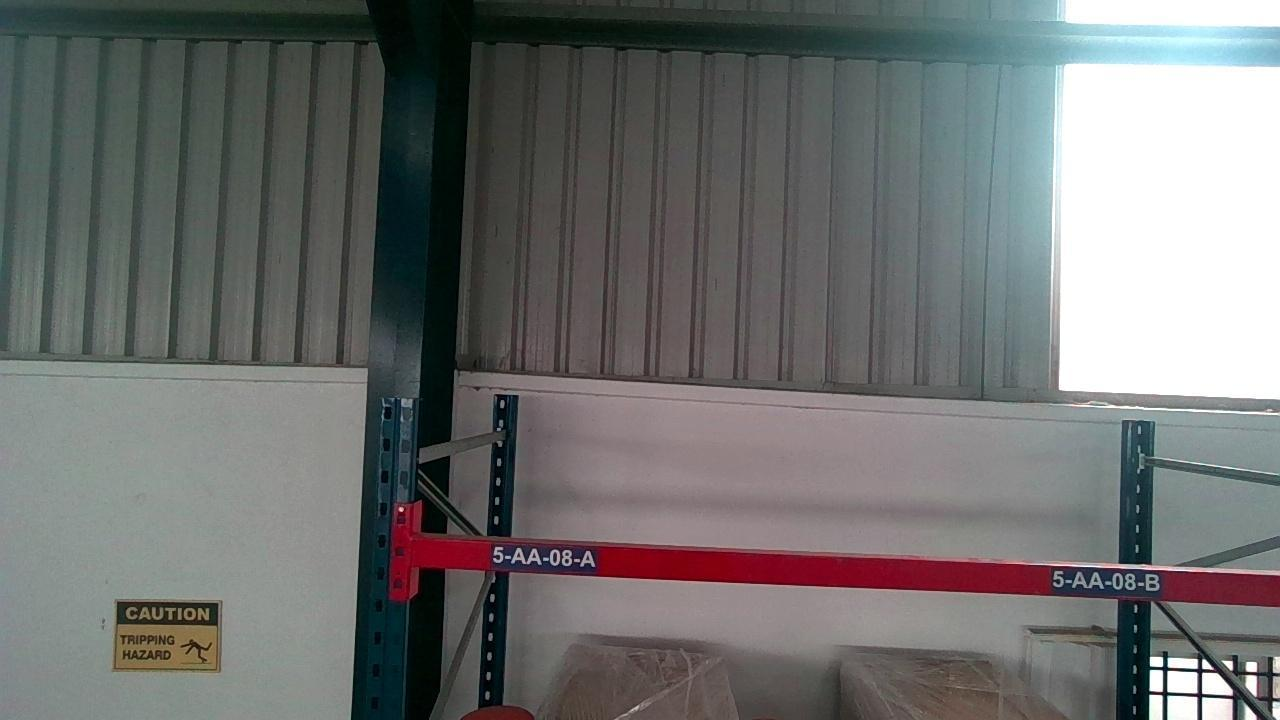h_rack: (413, 537, 1279, 599)
